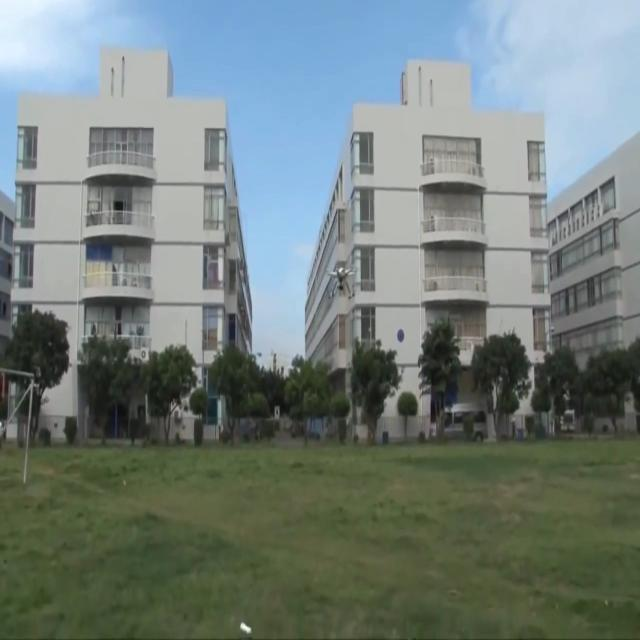drone: (326, 261, 357, 299)
